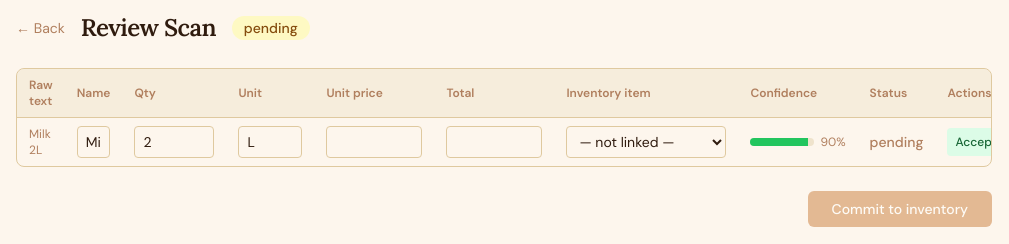
Test case: ReceiptReviewPage › editing unit price auto-fills total via quantity
The width and height of the screenshot is (1009, 244).
Type "5" into the number field named "Unit price".
click(374, 142); type("5")  # box [326,126,422,158]
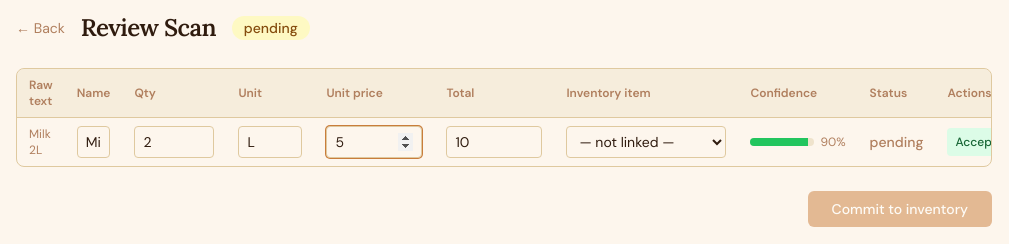
Check: the number field named "Total" holds "10", box [446,126,542,158]
